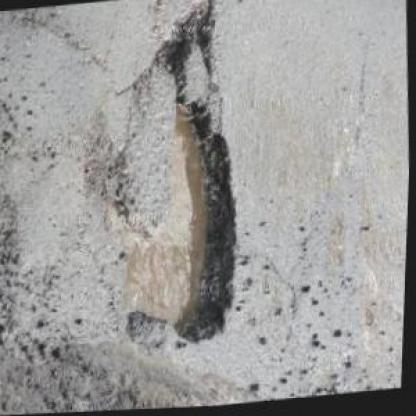pothole: (97, 89, 250, 356), (144, 0, 221, 90)
